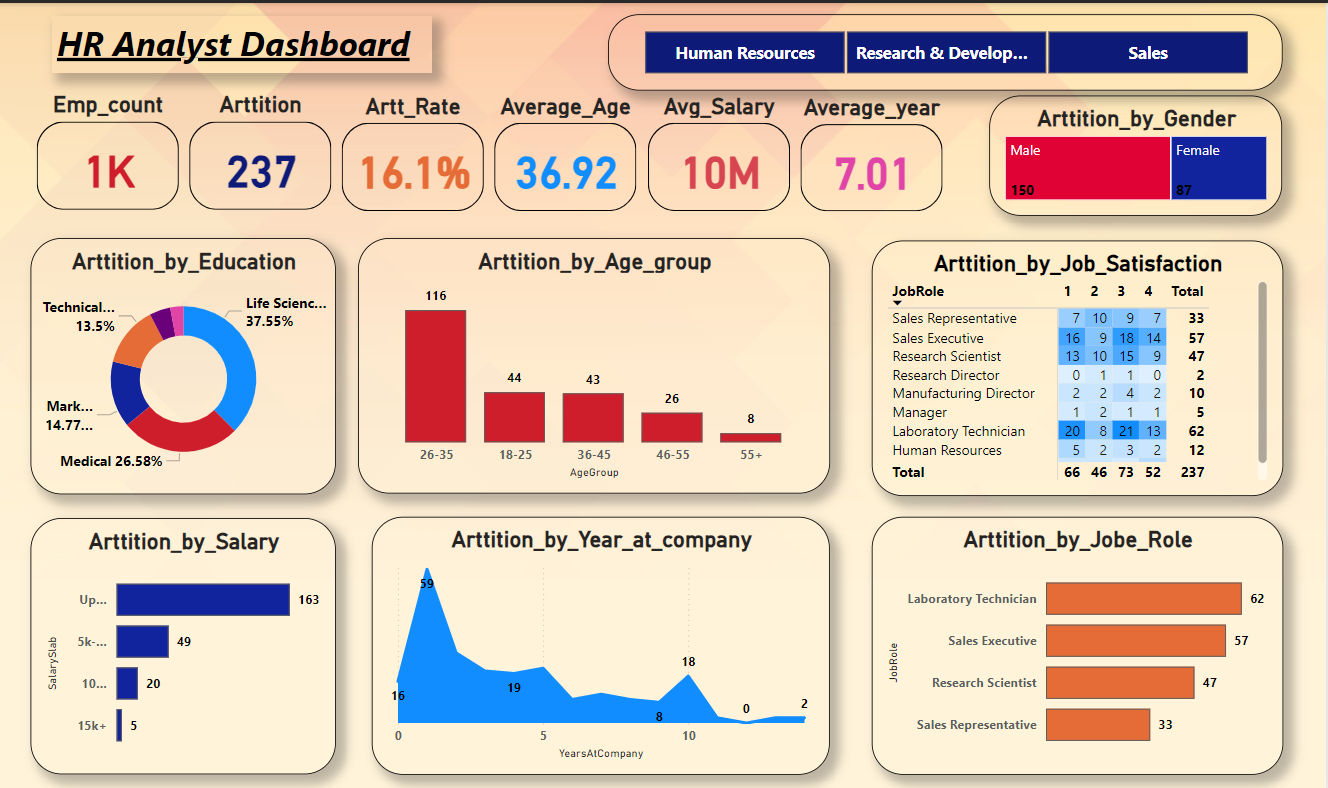

What the dashboard file says about the page in this screenshot:
{"tool":"powerbi","page":{"name":"Page 1","canvas":[1280,765],"ordinal":0},"visuals":[{"type":"cardVisual","title":"Emp_count","fields":{"Data":["Sum(HR_Analytics.EmployeeCount)"]},"box":[32.2,85.3,147.3,120],"z":0},{"type":"cardVisual","title":"Arttition","fields":{"Data":["Sum(HR_Analytics.Attrition_count)"]},"box":[179.5,85.3,147.3,120],"z":1000},{"type":"cardVisual","title":"Artt_Rate","fields":{"Data":["HR_Analytics.Arttition_Rate"]},"box":[326.8,86.8,147.3,120],"z":2000},{"type":"cardVisual","title":"Average_Age","fields":{"Data":["Avg(HR_Analytics.Age)"]},"box":[474.2,86.8,147.3,120],"z":3000},{"type":"cardVisual","title":"Avg_Salary","fields":{"Data":["Sum(HR_Analytics.MonthlyIncome)"]},"box":[621.5,86.8,147.3,120],"z":4000},{"type":"cardVisual","title":"Average_year","fields":{"Data":["Avg(HR_Analytics.YearsAtCompany)"]},"box":[768.8,88.4,147.3,118.5],"z":5000},{"type":"donutChart","title":"Arttition_by_Education","fields":{"Category":["HR_Analytics.EducationField"],"Y":["Sum(HR_Analytics.Attrition_count)"]},"box":[31.9,226.3,294.6,247.6],"z":6000},{"type":"columnChart","title":"Arttition_by_Age_group","fields":{"Category":["HR_Analytics.AgeGroup"],"Y":["Sum(HR_Analytics.Attrition_count)"]},"box":[346.7,226.5,455.2,246.6],"z":7000},{"type":"pivotTable","title":"Arttition_by_Job_Satisfaction","fields":{"Rows":["HR_Analytics.JobRole"],"Values":["Sum(HR_Analytics.Attrition_count)"],"Columns":["HR_Analytics.JobSatisfaction"]},"box":[841.8,228.4,396.4,246.6],"z":8000},{"type":"barChart","title":"Arttition_by_Salary","fields":{"Category":["HR_Analytics.SalarySlab"],"Y":["Sum(HR_Analytics.Attrition_count)"]},"box":[31.9,496.6,294.6,247.6],"z":9000},{"type":"barChart","title":"Arttition_by_Jobe_Role","fields":{"Category":["HR_Analytics.JobRole"],"Y":["Sum(HR_Analytics.Attrition_count)"]},"box":[841.8,495.8,396.4,248.5],"z":10000},{"type":"areaChart","title":"Arttition_by_Year_at_company","fields":{"Category":["HR_Analytics.YearsAtCompany"],"Y":["Sum(HR_Analytics.Attrition_count)"]},"box":[360,495.8,442,248.5],"z":11000},{"type":"treemap","title":"Arttition_by_Gender","fields":{"Group":["HR_Analytics.Gender"],"Values":["Sum(HR_Analytics.Attrition_count)"]},"box":[956,89.2,282.6,115.7],"z":12000},{"type":"slicer","title":"Arttition_by_Year_at_company","fields":{"Values":["HR_Analytics.Department"]},"box":[588,11.4,650.6,74],"z":12001},{"type":"textbox","box":[51.7,11.7,366.7,55],"z":12002}]}

Visuals, with their boxes in screenshot pixels (x1, y1, x2, y2), scaled from the page's 1280x765 canvas onto the 1328x788 screenshot:
"Emp_count" cardVisual: 33, 88, 186, 211
"Arttition" cardVisual: 186, 88, 339, 211
"Artt_Rate" cardVisual: 339, 89, 492, 213
"Average_Age" cardVisual: 492, 89, 645, 213
"Avg_Salary" cardVisual: 645, 89, 798, 213
"Average_year" cardVisual: 798, 91, 950, 213
"Arttition_by_Education" donutChart: 33, 233, 339, 488
"Arttition_by_Age_group" columnChart: 360, 233, 832, 487
"Arttition_by_Job_Satisfaction" pivotTable: 873, 235, 1285, 489
"Arttition_by_Salary" barChart: 33, 512, 339, 767
"Arttition_by_Jobe_Role" barChart: 873, 511, 1285, 767
"Arttition_by_Year_at_company" areaChart: 374, 511, 832, 767
"Arttition_by_Gender" treemap: 992, 92, 1285, 211
"Arttition_by_Year_at_company" slicer: 610, 12, 1285, 88
textbox: 54, 12, 434, 69
